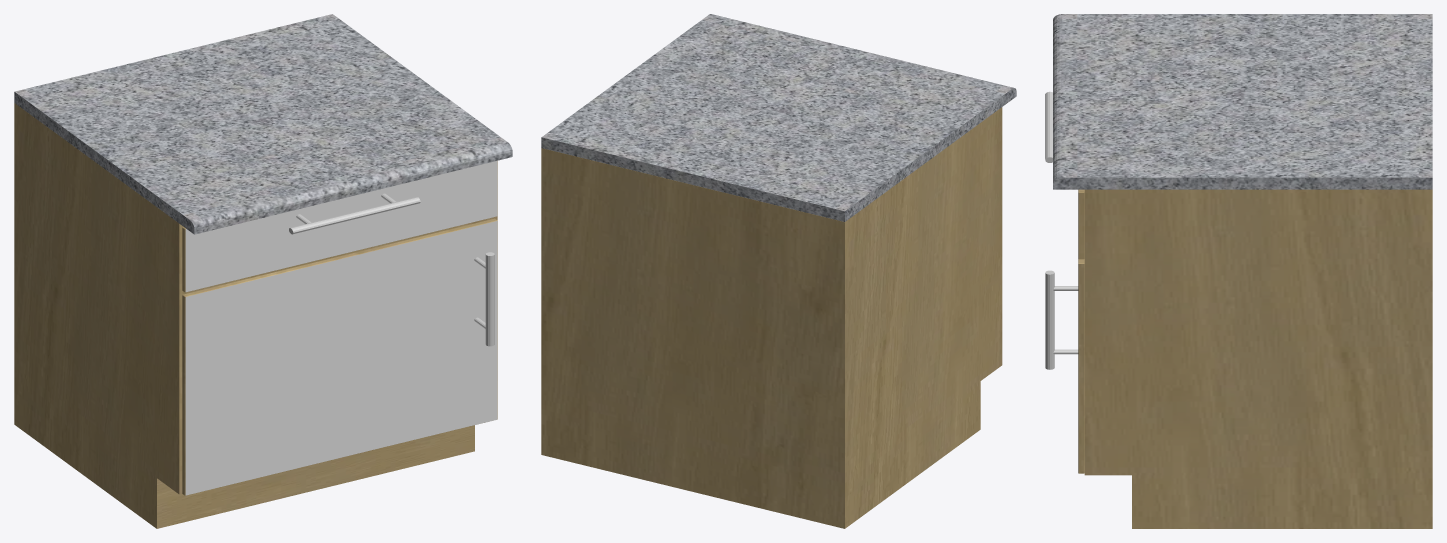
Rendered from sh-bs0-lower-cabinet.glb.
3 renders of one model, left to right at view 1: azimuth 30°, elevation 25°; view 2: azimuth 150°, elevation 25°; view 3: azimuth 270°, elevation 25°, orthographic. The views are drawn at different scales.
Visible parts, largest first — view 1: GC_100L.004_Cube.016; view 2: GC_100L.004_Cube.016; view 3: GC_100L.004_Cube.016.
Boxes of the visible parts, bbox=[...] form: GC_100L.004_Cube.016: bbox=[14, 14, 512, 528]; GC_100L.004_Cube.016: bbox=[541, 14, 1016, 528]; GC_100L.004_Cube.016: bbox=[1045, 14, 1432, 528].
Bounding box in the file's own units: 1 × 1 × 1.
Materials: 4 (2 with a texture image).
